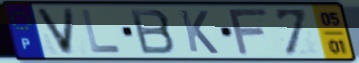7: (274, 7, 310, 57)
B: (127, 8, 178, 56)
F: (226, 7, 271, 57)
K: (177, 8, 221, 56)
L: (79, 8, 124, 56)
V: (33, 6, 77, 57)
